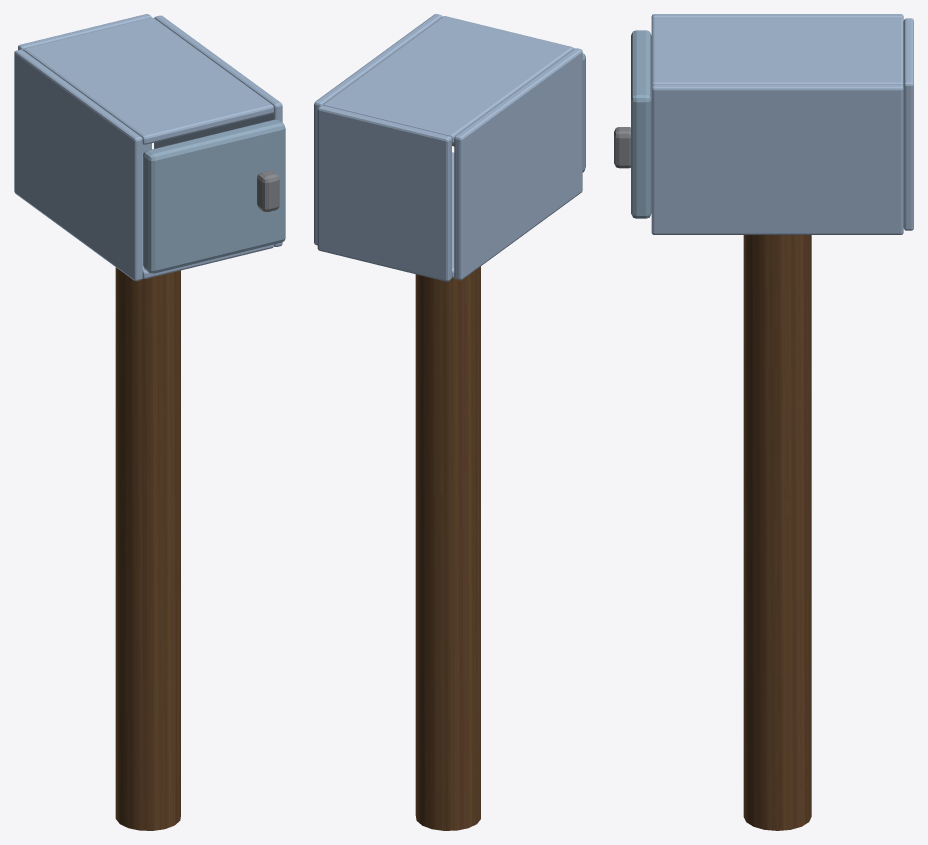
File: mailbox.glb
3 renders of one model, left to right at view 1: azimuth 30°, elevation 25°; view 2: azimuth 150°, elevation 25°; view 3: azimuth 270°, elevation 25°, orthographic. The views are drawn at different scales.
Parts seen in each view (by area): view 1: post, mb_body_left, part_door__mailbox, mb_body_top, mb_body_right, mb_body_back, mb_body_bottom; view 2: post, mb_body_back, mb_body_left, mb_body_top, mb_body_right; view 3: post, mb_body_right, mb_body_top, part_door__mailbox, mb_body_back, mb_body_left.
Boxes of the visible parts, box(x1,y1,x2,y2) form: post: box(115, 267, 180, 830); mb_body_left: box(14, 49, 142, 281); part_door__mailbox: box(143, 119, 285, 273); mb_body_top: box(23, 17, 273, 144); mb_body_right: box(154, 15, 282, 246); mb_body_back: box(18, 14, 151, 153); mb_body_bottom: box(142, 154, 273, 278); post: box(415, 266, 480, 830); mb_body_back: box(317, 105, 451, 281); mb_body_left: box(454, 48, 582, 280); mb_body_top: box(323, 16, 573, 143); mb_body_right: box(314, 14, 442, 245); post: box(743, 235, 811, 830); mb_body_right: box(651, 84, 903, 234); mb_body_top: box(651, 18, 903, 86); part_door__mailbox: box(614, 30, 651, 218); mb_body_back: box(903, 18, 913, 230); mb_body_left: box(651, 14, 903, 19).
Size of the model in its own units: 0.26 by 1.24 by 0.44.
Materials: 4 (1 with a texture image).
